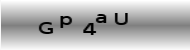4: (82, 21, 97, 36)
G: (37, 21, 54, 35)
U: (114, 12, 129, 25)
a: (95, 13, 108, 25)
p: (58, 15, 73, 29)
